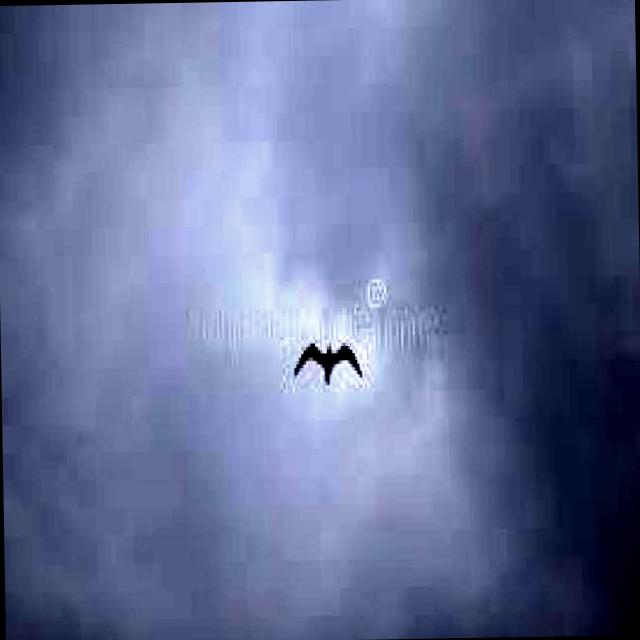bird: (290, 333, 364, 391)
